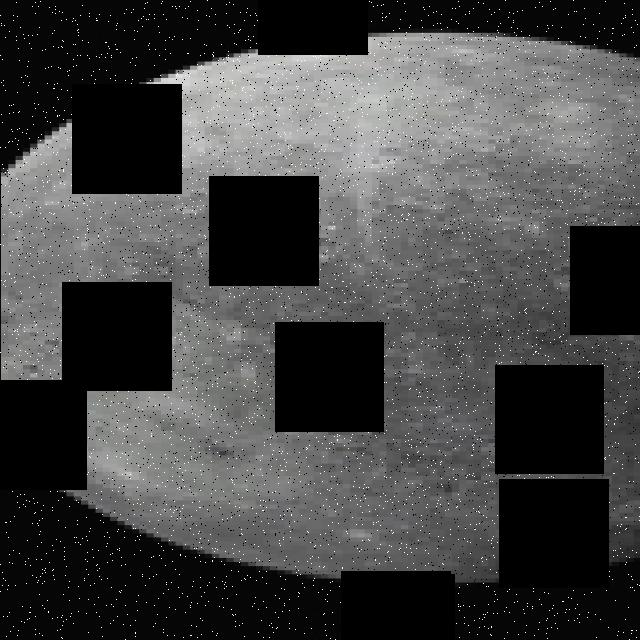Mercury: (0, 29, 640, 586)
